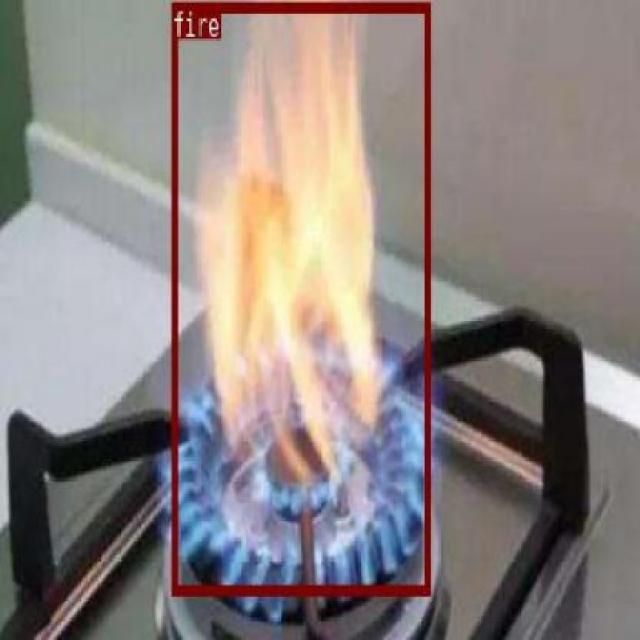Fire: (170, 0, 429, 592)
